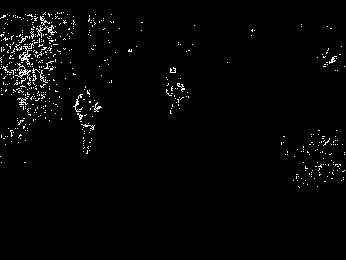person: (72, 86, 105, 156), (165, 61, 192, 119)
